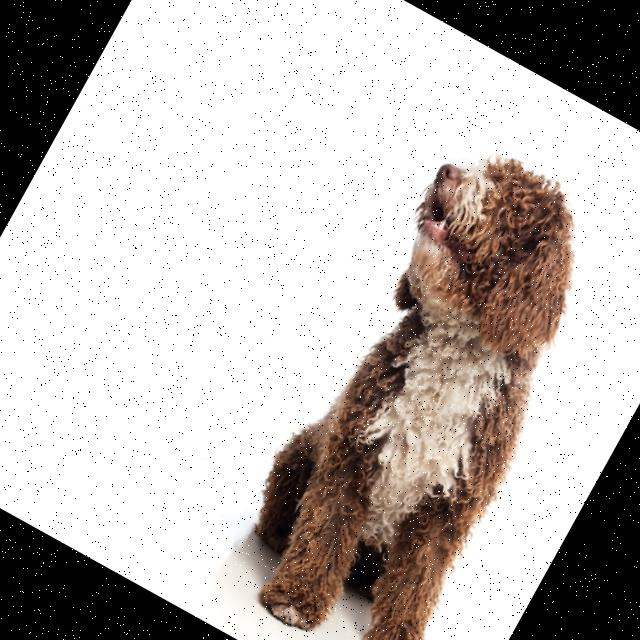Dog: (205, 126, 640, 640)
